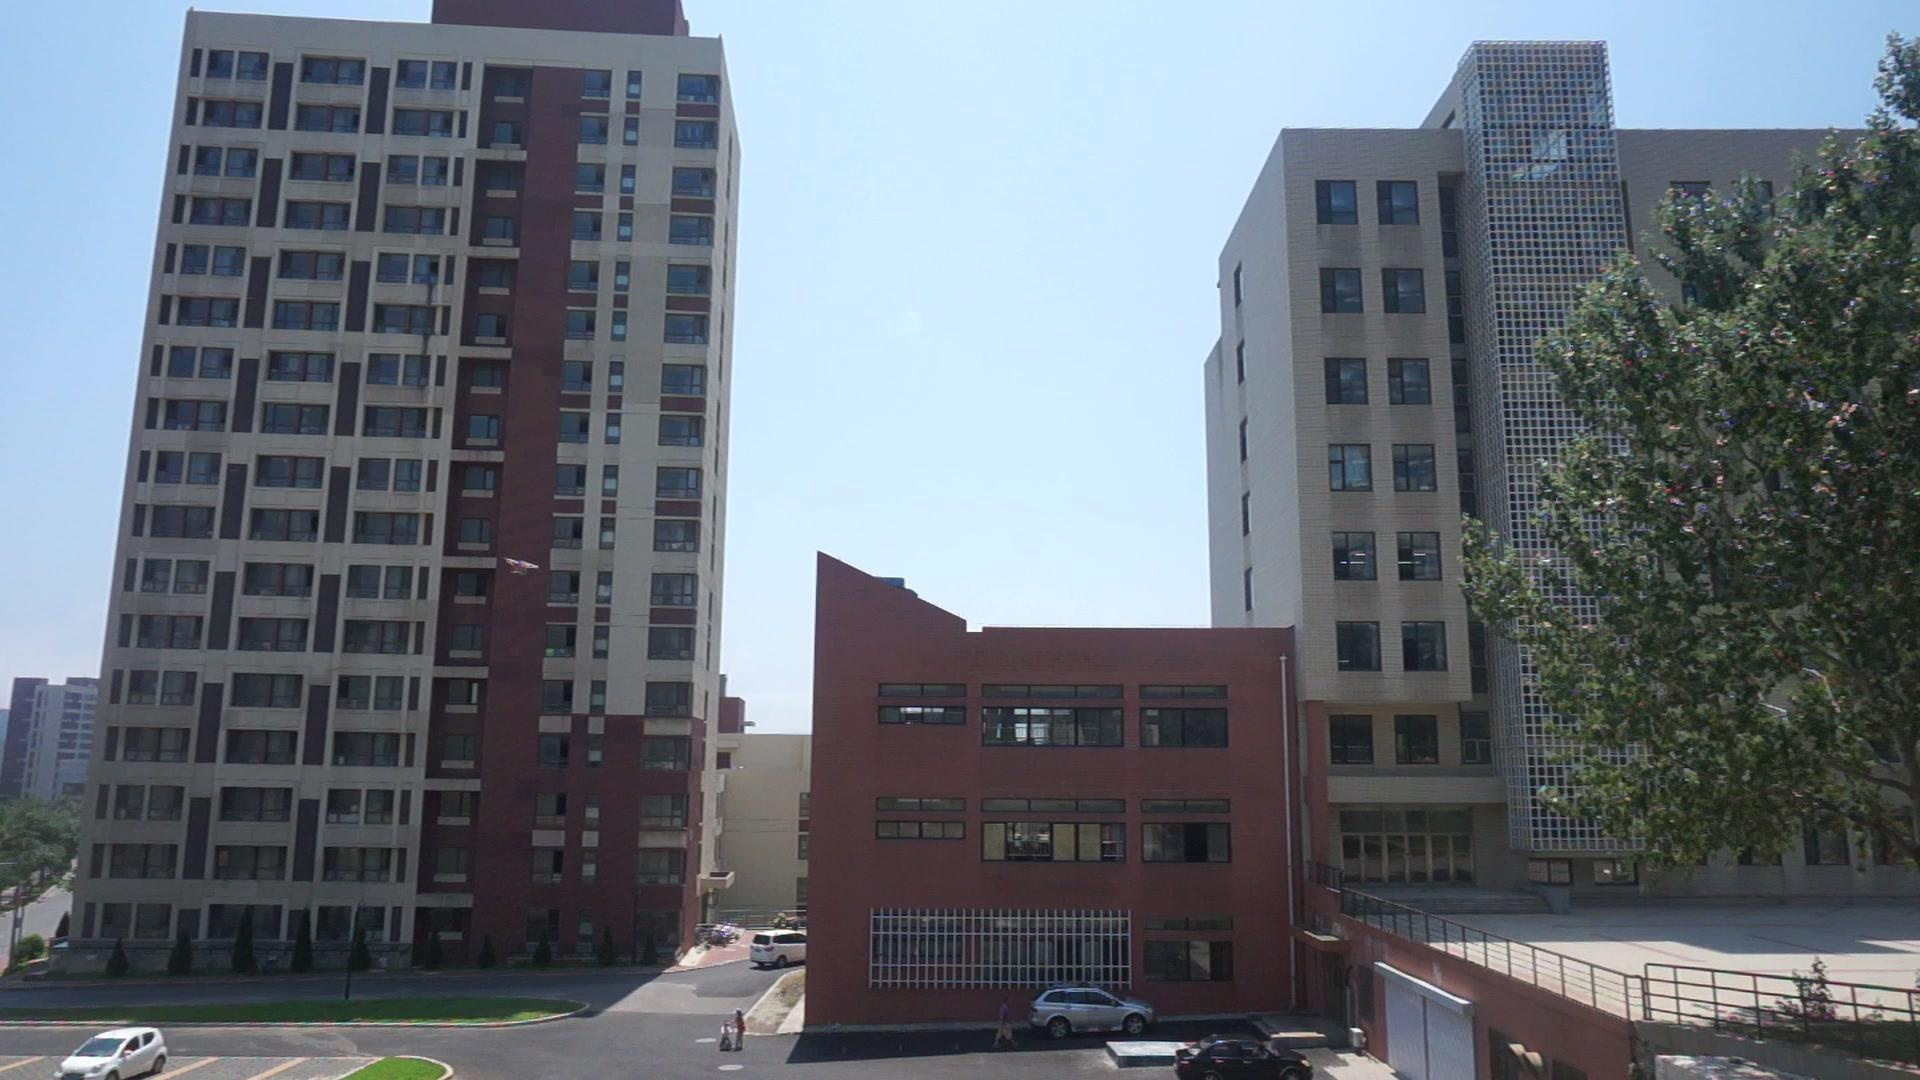UAV: (505, 556, 541, 578)
